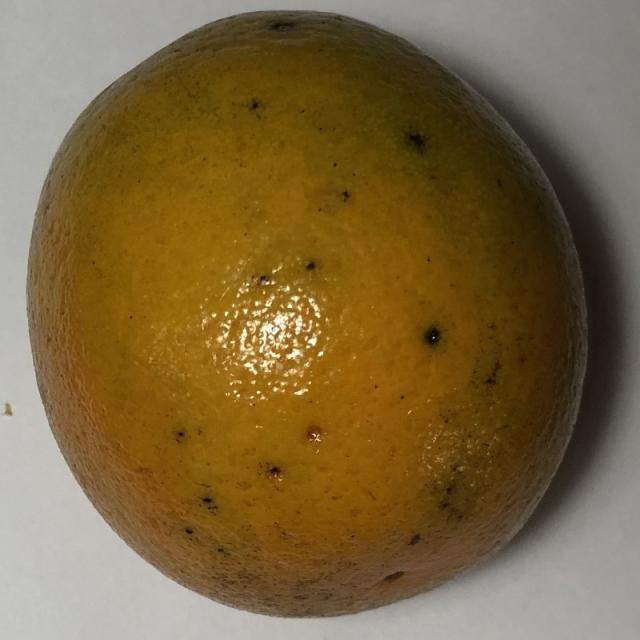blackspot: (16, 0, 616, 627)
